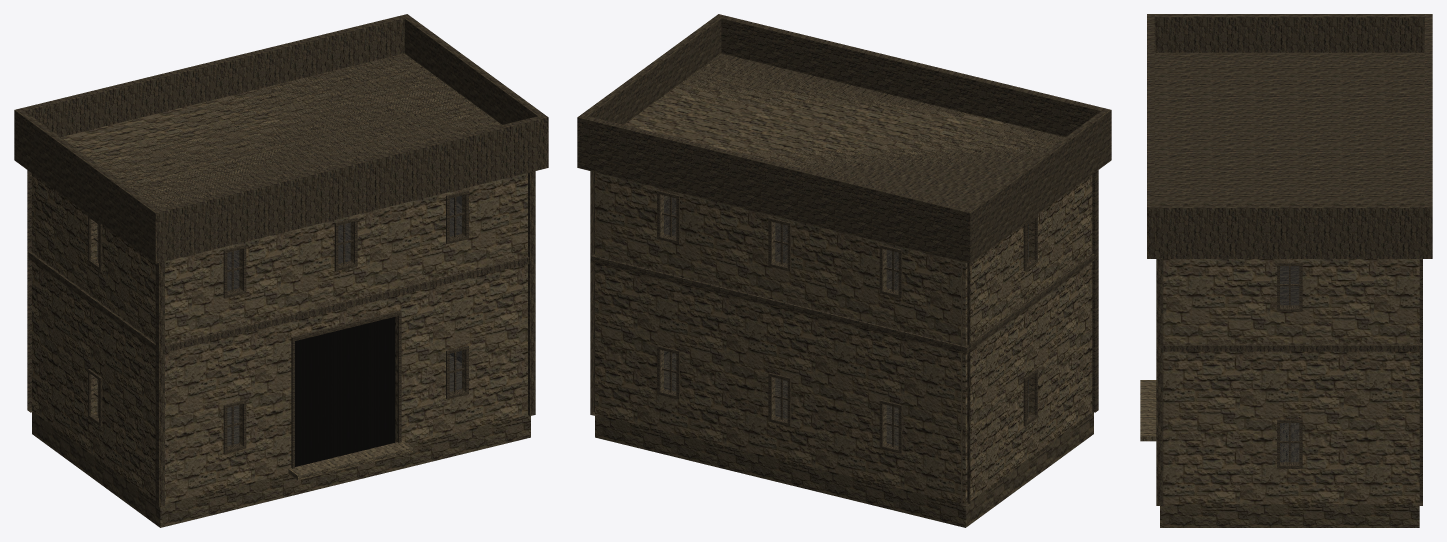
Rendered from dungeon_gate_01.glb.
The picture shows the model from 3 angles, left to right: view 1: azimuth 30°, elevation 25°; view 2: azimuth 150°, elevation 25°; view 3: azimuth 270°, elevation 25°; orthographic projection.
Visible parts, largest first — view 1: dungeon_gate_01; view 2: dungeon_gate_01; view 3: dungeon_gate_01.
Part boxes in pixels (left/top/right/bottom): dungeon_gate_01: left=14, top=14, right=548, bottom=527; dungeon_gate_01: left=577, top=14, right=1111, bottom=527; dungeon_gate_01: left=1140, top=14, right=1432, bottom=527.
Size of the model in its own units: 10.6 by 8.3 by 6.75.
6 materials, 5 textured.
